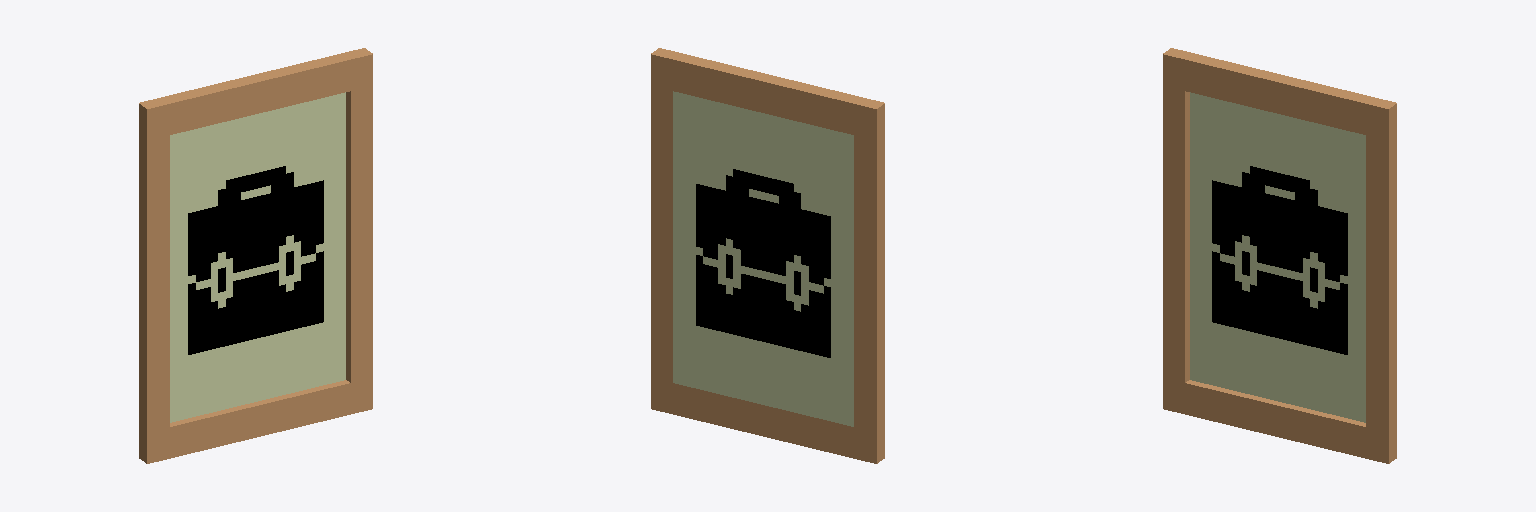
The picture shows the model from 3 angles: view 1: azimuth 30°, elevation 25°; view 2: azimuth 150°, elevation 25°; view 3: azimuth 330°, elevation 25°; orthographic projection.
Visible parts, largest first — view 1: object 1; view 2: object 1; view 3: object 1.
Boxes of the visible parts, <box> form: object 1: <box>139,48,372,463</box>; object 1: <box>651,48,884,463</box>; object 1: <box>1163,48,1396,463</box>.
Bounding box in the file's own units: 3 × 4.5 × 0.2.
Materials: 1 (1 with a texture image).